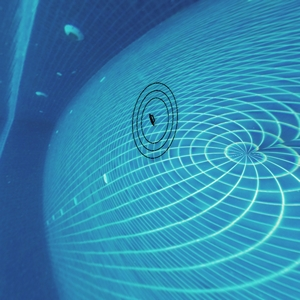circle: (118, 84, 186, 168)
submarine: (146, 113, 155, 123)
